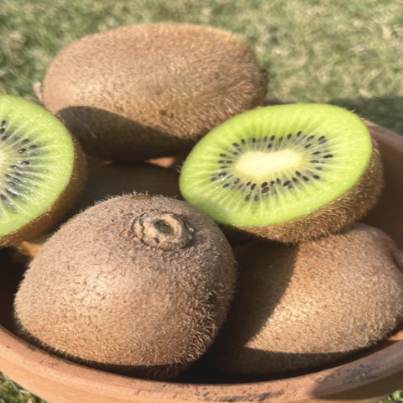kiwi: (5, 164, 250, 385), (18, 19, 273, 167)
